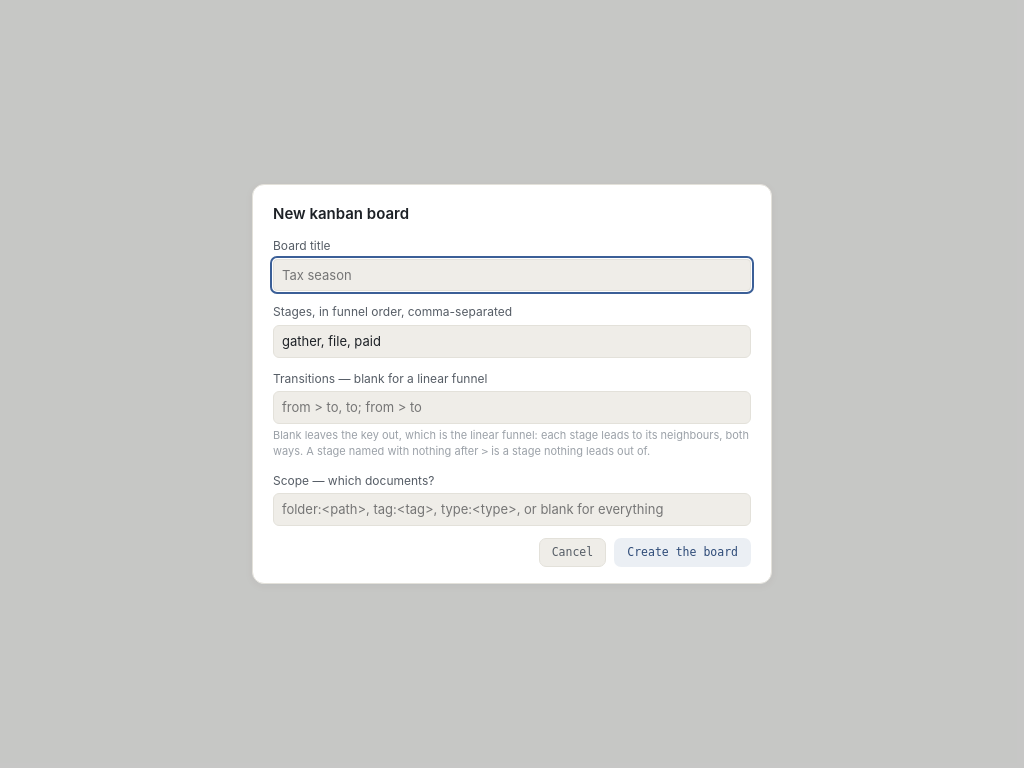
creating a kanban › refuses a board with no title and one with no stages, and submits neither
Type "a, b" into the field labelled "Stages, in funnel order, comma-separated". click: (512, 341)
box: [273, 325, 751, 358]
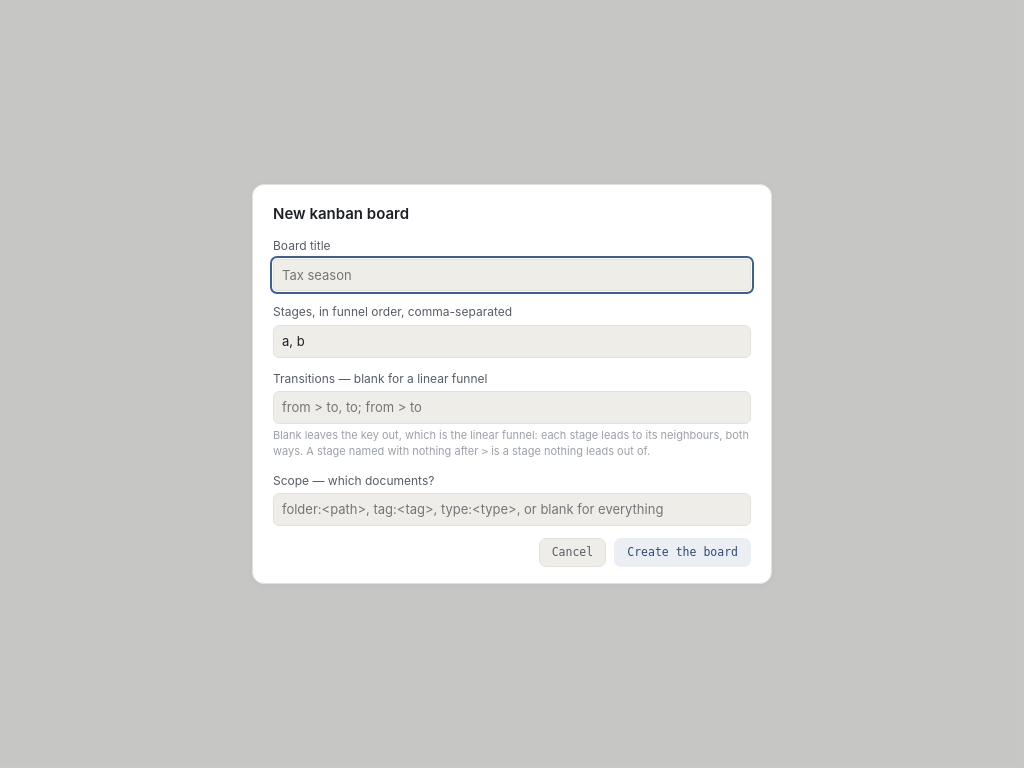
Click the button "Create the board". click: click(683, 552)
box: [614, 538, 751, 567]
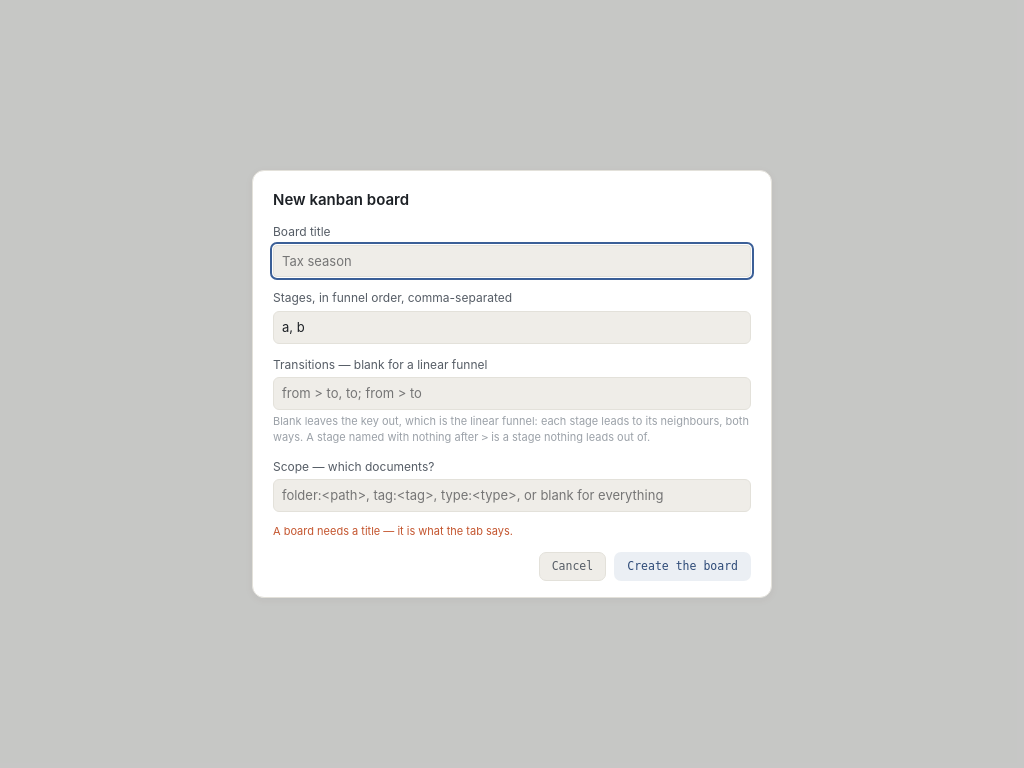
expect the message shows "A board needs a title": met, box [273, 524, 513, 538]
Type "Tax" into the field labelled "Board title". click: (512, 261)
box: [273, 244, 751, 277]
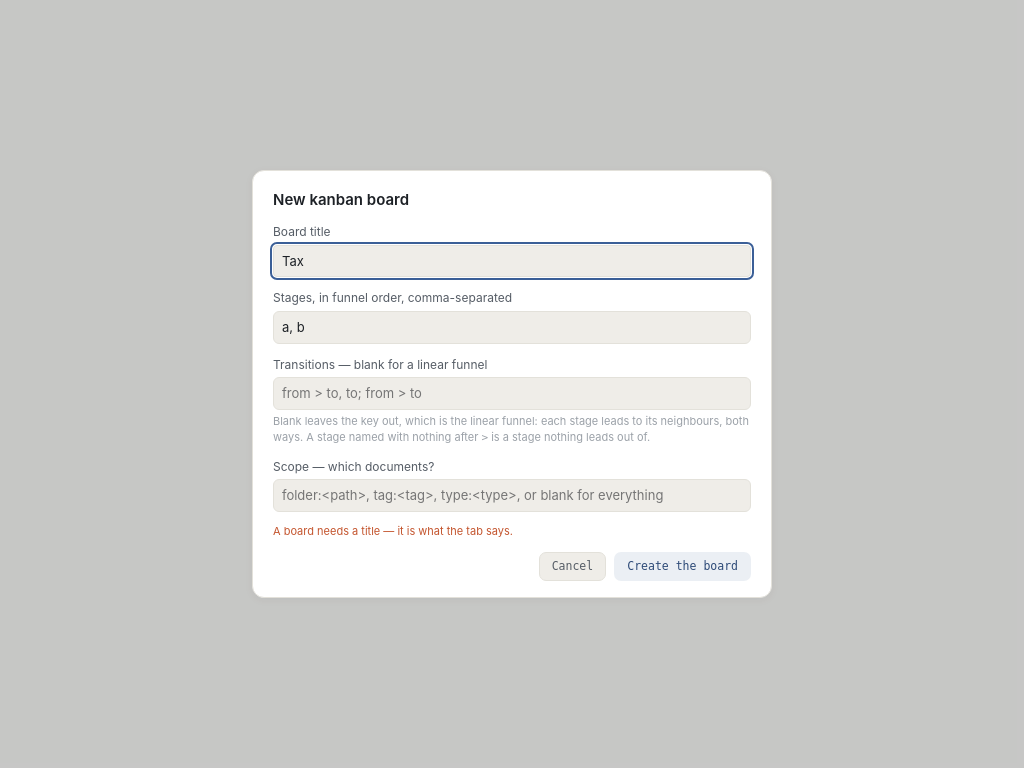
Replace the text in the field labelled "Stages, in funnel order, comma-separated" with "  ,  ". click: (512, 327)
box: [273, 311, 751, 344]
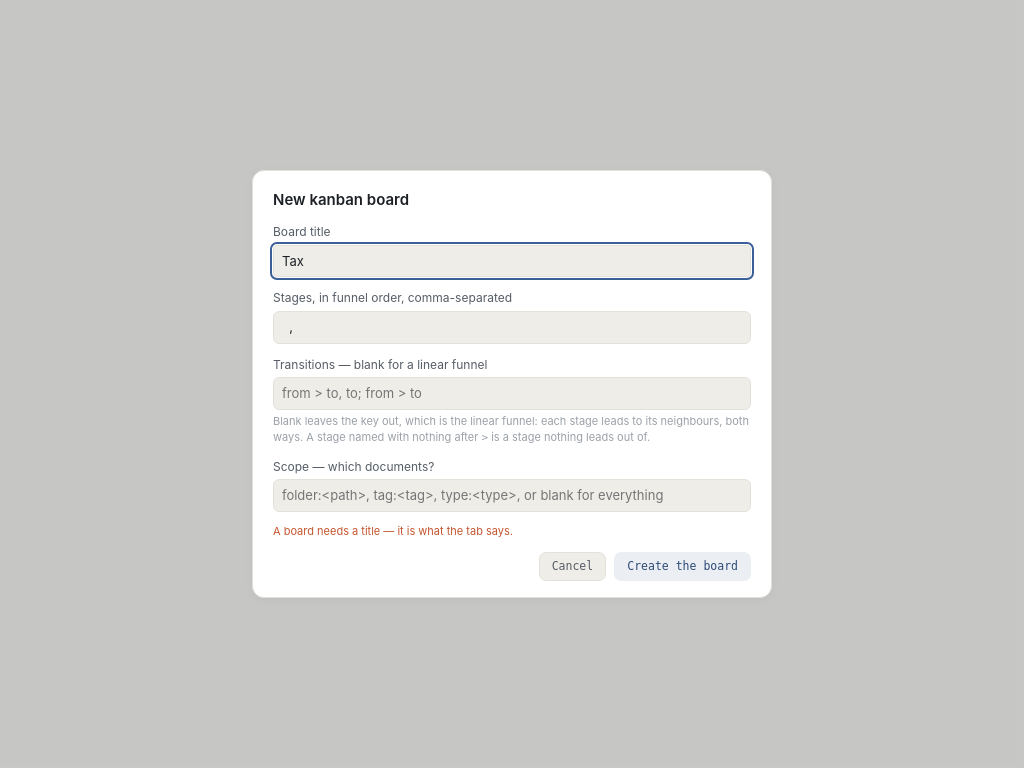
Click the button "Create the board". click: click(683, 566)
box: [614, 552, 751, 581]
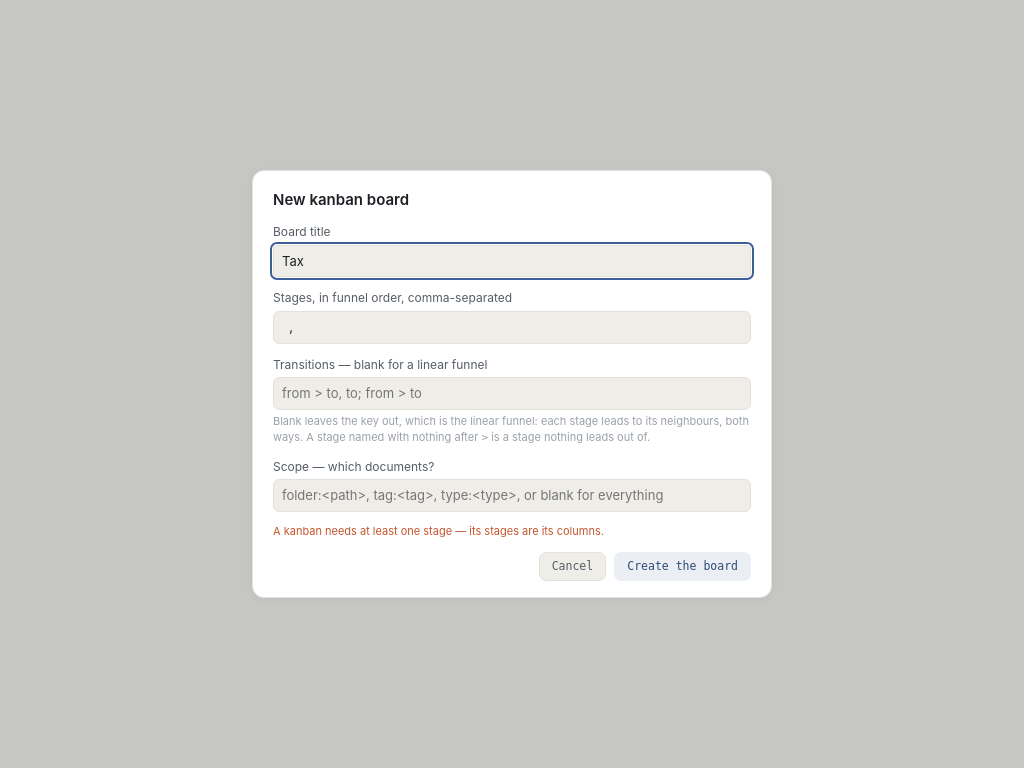
expect the message shows "at least one stage": met, box [273, 524, 604, 538]
